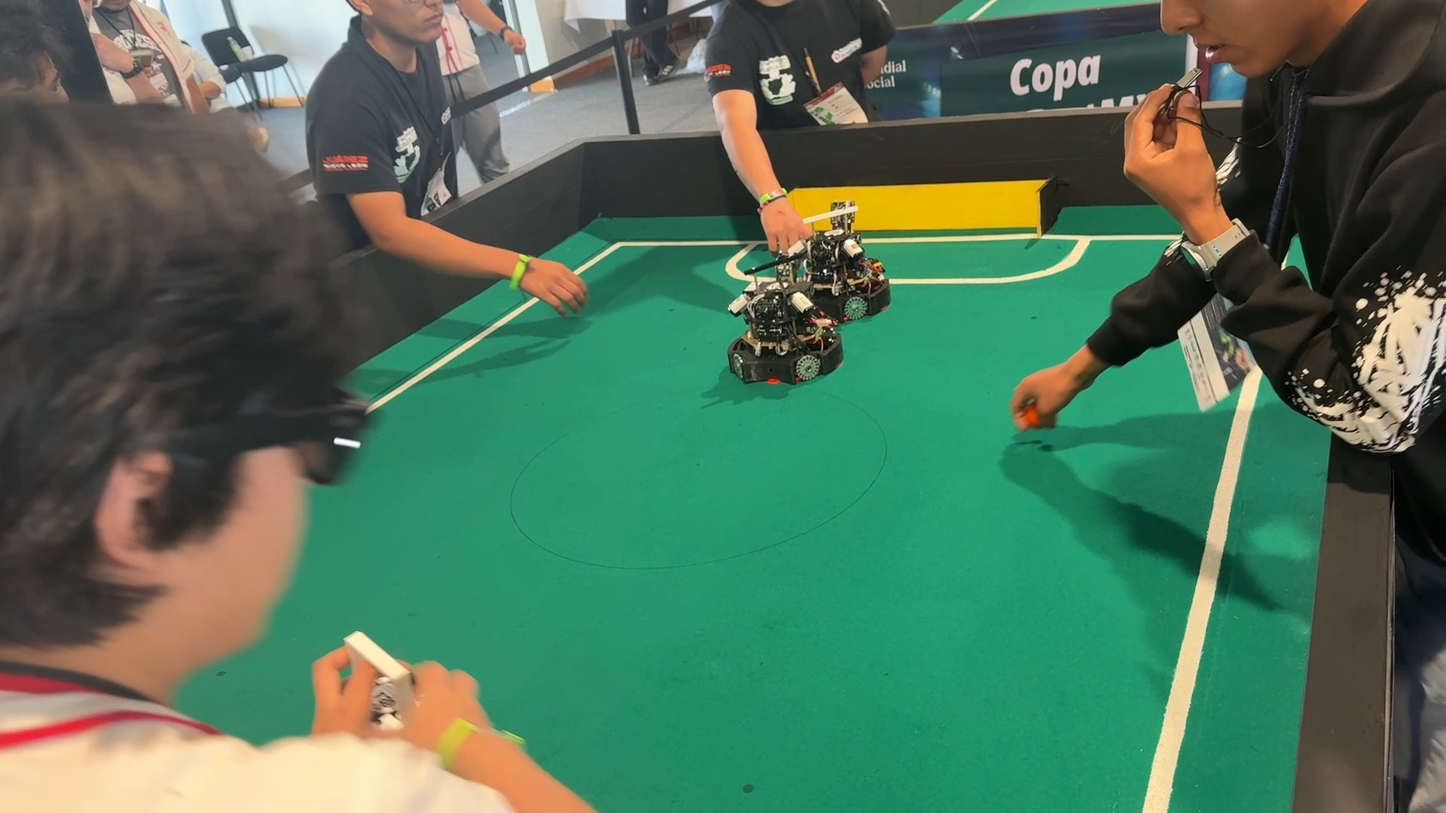Robot: (307, 625, 497, 813), (721, 256, 845, 403), (795, 202, 889, 324)
